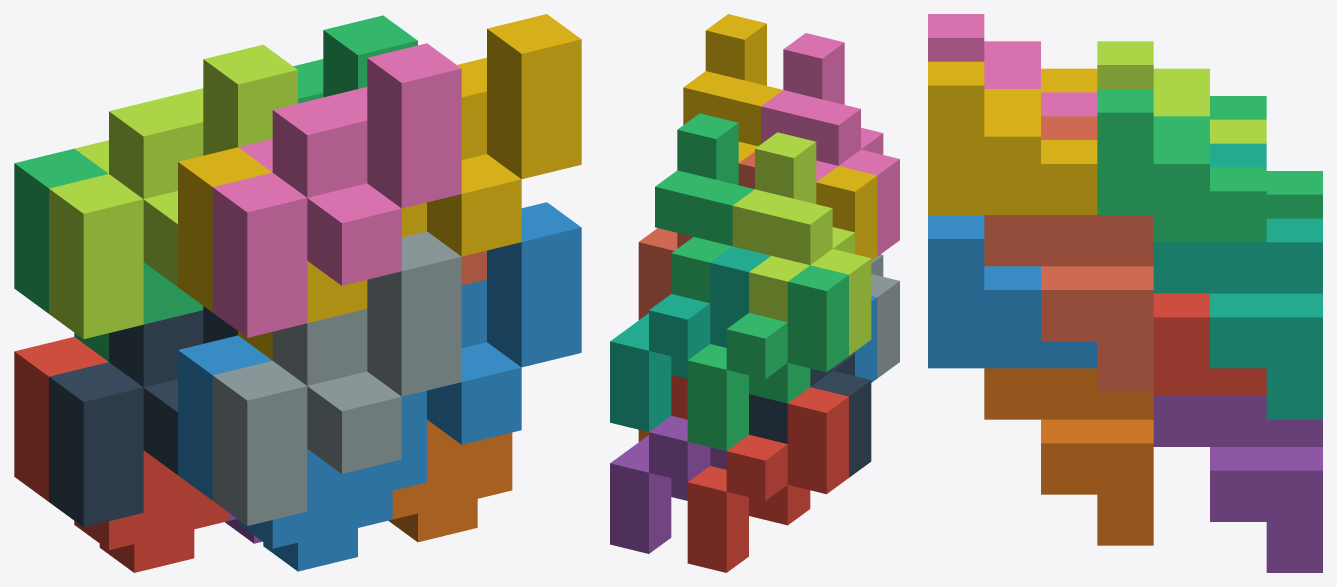
File: tiling.obj
The picture shows the model from 3 angles, left to right: view 1: azimuth 30°, elevation 25°; view 2: azimuth 150°, elevation 25°; view 3: azimuth 270°, elevation 25°; orthographic projection. The views are drawn at different scales.
Visible parts, largest first — view 1: copy_2_domain_4, copy_2_domain_2, copy_2_domain_3, copy_2_domain_6, copy_2_domain_8, copy_2_domain_1, copy_1_domain_2, copy_1_domain_1, copy_1_domain_4, copy_1_domain_3, copy_1_domain_6, copy_2_domain_7 (+1 smaller); view 2: copy_1_domain_1, copy_1_domain_3, copy_2_domain_3, copy_1_domain_7, copy_2_domain_4, copy_2_domain_7, copy_1_domain_5, copy_2_domain_8, copy_2_domain_1, copy_1_domain_4, copy_1_domain_8, copy_2_domain_2 (+2 smaller); view 3: copy_1_domain_7, copy_1_domain_8, copy_2_domain_8, copy_1_domain_6, copy_1_domain_5, copy_2_domain_7, copy_2_domain_6, copy_2_domain_5, copy_2_domain_3, copy_2_domain_4, copy_1_domain_3, copy_1_domain_4.
Boxes of the visible parts, x1=… form: copy_2_domain_4: x1=212, y1=43, x2=461, y2=337; copy_2_domain_2: x1=212, y1=231, x2=461, y2=525; copy_2_domain_3: x1=49, y1=44, x2=297, y2=339; copy_2_domain_6: x1=367, y1=202, x2=581, y2=496; copy_2_domain_8: x1=401, y1=14, x2=581, y2=256; copy_2_domain_1: x1=49, y1=306, x2=237, y2=527; copy_1_domain_2: x1=178, y1=335, x2=392, y2=571; copy_1_domain_1: x1=14, y1=337, x2=228, y2=572; copy_1_domain_4: x1=178, y1=147, x2=367, y2=360; copy_1_domain_3: x1=14, y1=148, x2=203, y2=361; copy_1_domain_6: x1=388, y1=419, x2=512, y2=542; copy_2_domain_7: x1=293, y1=15, x2=417, y2=103; copy_1_domain_1: x1=687, y1=387, x2=848, y2=572; copy_1_domain_3: x1=687, y1=265, x2=848, y2=450; copy_2_domain_3: x1=732, y1=132, x2=871, y2=355; copy_1_domain_7: x1=610, y1=246, x2=770, y2=431; copy_2_domain_4: x1=761, y1=33, x2=899, y2=256; copy_2_domain_7: x1=655, y1=113, x2=754, y2=303; copy_1_domain_5: x1=610, y1=416, x2=726, y2=553; copy_2_domain_8: x1=683, y1=14, x2=782, y2=162; copy_2_domain_1: x1=749, y1=353, x2=871, y2=477; copy_1_domain_4: x1=816, y1=166, x2=877, y2=260; copy_1_domain_8: x1=638, y1=151, x2=754, y2=319; copy_2_domain_2: x1=871, y1=254, x2=899, y2=378; copy_1_domain_7: x1=1153, y1=143, x2=1322, y2=419; copy_1_domain_8: x1=984, y1=116, x2=1153, y2=392; copy_2_domain_8: x1=928, y1=61, x2=1097, y2=214; copy_1_domain_6: x1=984, y1=368, x2=1153, y2=545; copy_1_domain_5: x1=1153, y1=395, x2=1322, y2=572; copy_2_domain_7: x1=1097, y1=89, x2=1266, y2=242; copy_2_domain_6: x1=928, y1=215, x2=1097, y2=368; copy_2_domain_5: x1=1153, y1=293, x2=1266, y2=395; copy_2_domain_3: x1=1097, y1=41, x2=1266, y2=143; copy_2_domain_4: x1=928, y1=14, x2=1097, y2=116; copy_1_domain_3: x1=1210, y1=96, x2=1322, y2=218; copy_1_domain_4: x1=1041, y1=68, x2=1097, y2=92.
Size of the model in its own units: 6 by 10 by 7.
